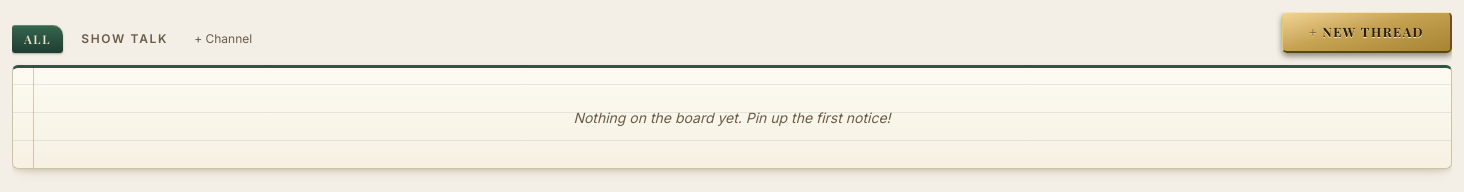
Test case: GroupBoard › offers the add-channel affordance to admins only
This screenshot has width=1464, height=192.
Click the button "+ Channel" at (223, 40), box [186,26,260,54]
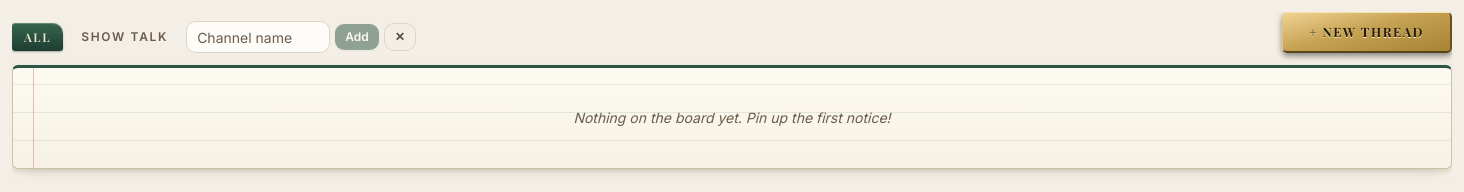
Type "Sales & ISO" into the field with placeholder "Channel name" at (258, 38), box [186,22,330,54]
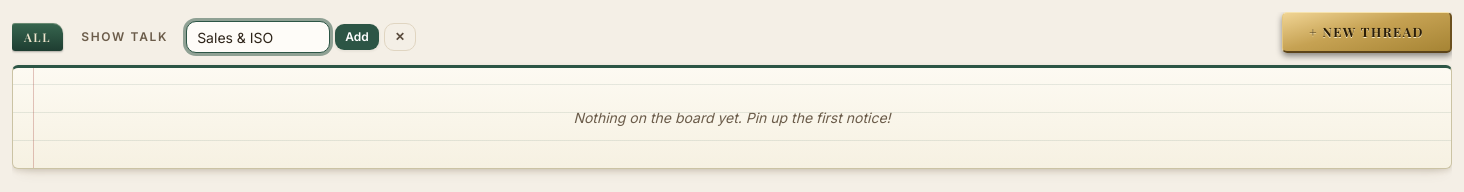
Click the button "Add" at (357, 38), box [334,24,380,52]
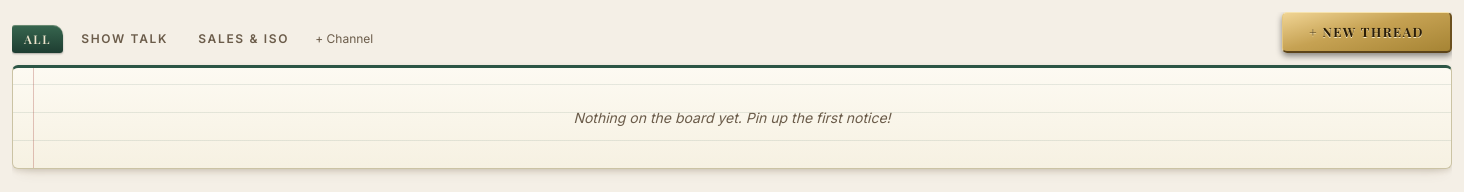
Now the tab "Sales & ISO" is shown, box [186,26,301,54]
